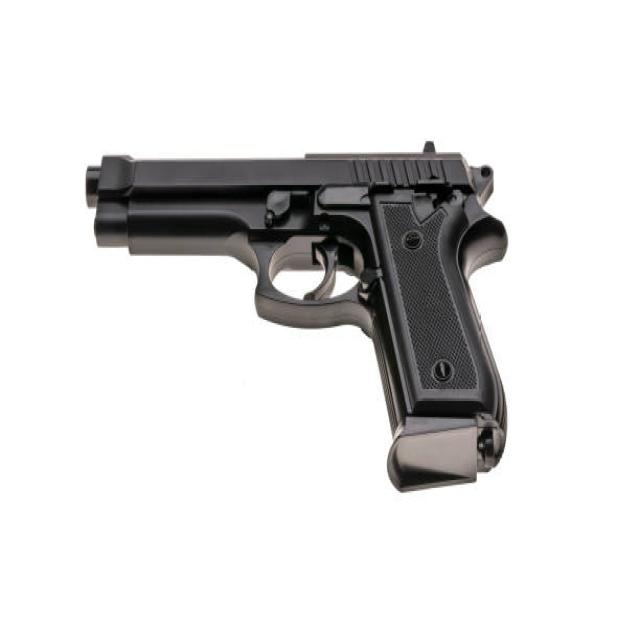pistol: (82, 132, 515, 498)
